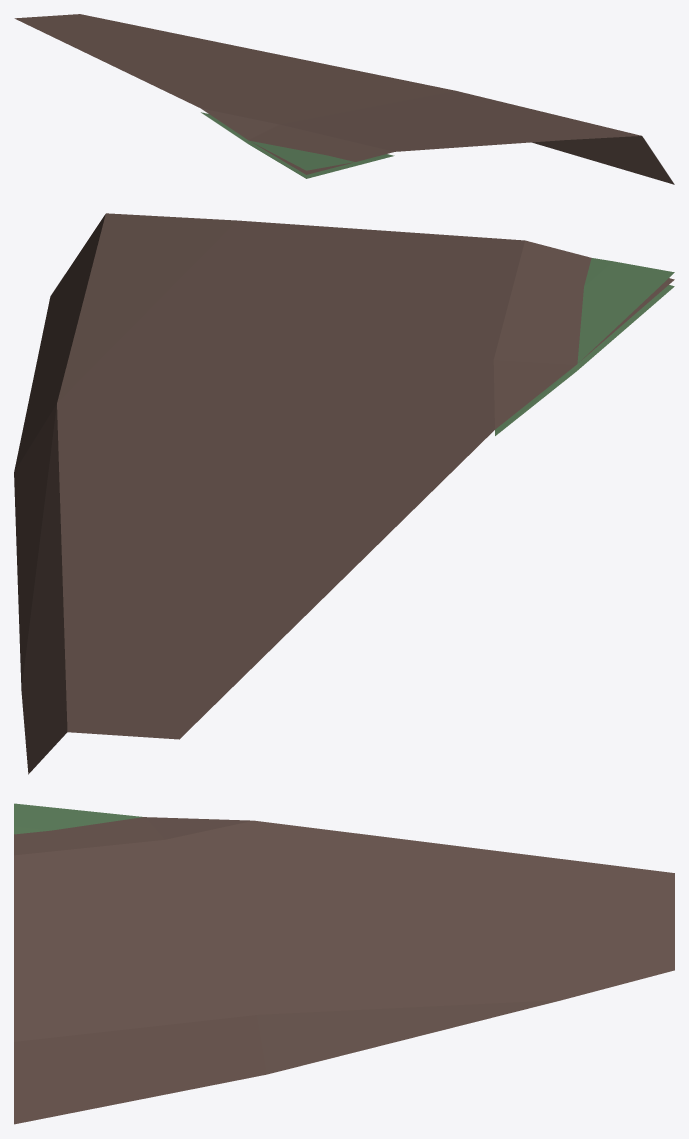
The model's file is cell_333.obj.
3 views of the same model, one above another, from view 1: azimuth 30°, elevation 25°; view 2: azimuth 150°, elevation 25°; view 3: azimuth 270°, elevation 25° (orthographic). The views are drawn at different scales.
Size of the model in its own units: 0.7278 by 0.1965 by 1.
